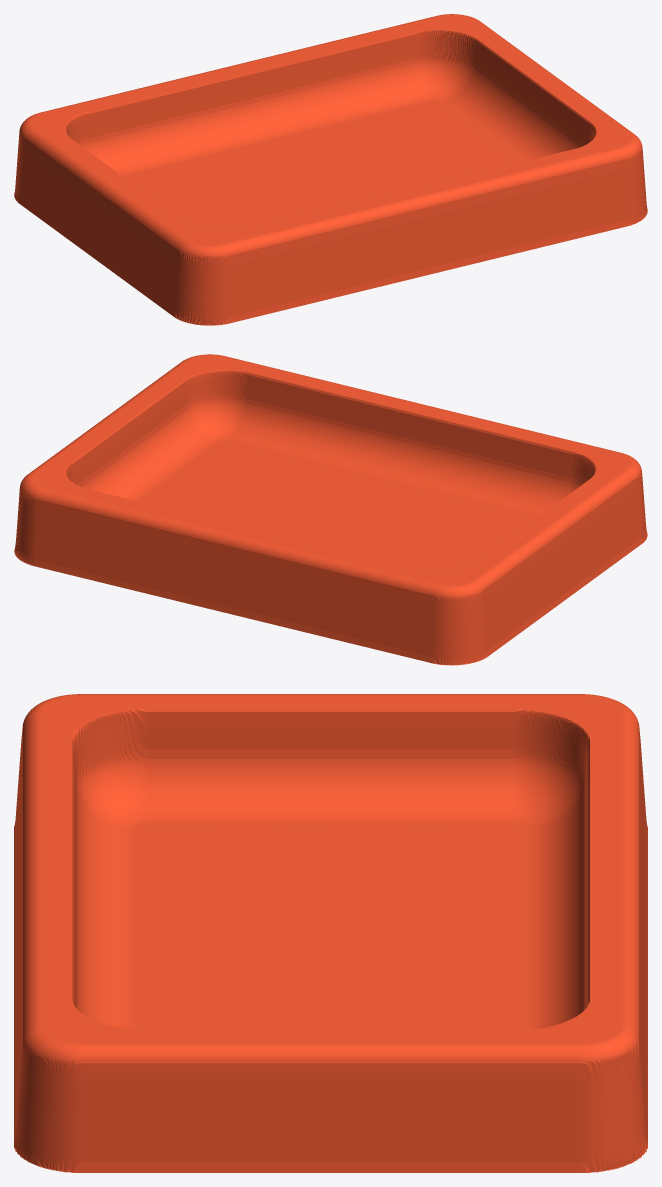
The model's file is mold.glb.
3 renders of one model, top to bottom at view 1: azimuth 30°, elevation 25°; view 2: azimuth 150°, elevation 25°; view 3: azimuth 270°, elevation 25°, orthographic. The views are drawn at different scales.
Parts seen in each view (by area): view 1: geometry_0; view 2: geometry_0; view 3: geometry_0.
Boxes of the visible parts, <box> form: geometry_0: <box>14,14,647,325</box>; geometry_0: <box>14,354,647,665</box>; geometry_0: <box>14,694,647,1172</box>.
Bounding box in the file's own units: 0.1178 × 0.0175 × 0.0852.
